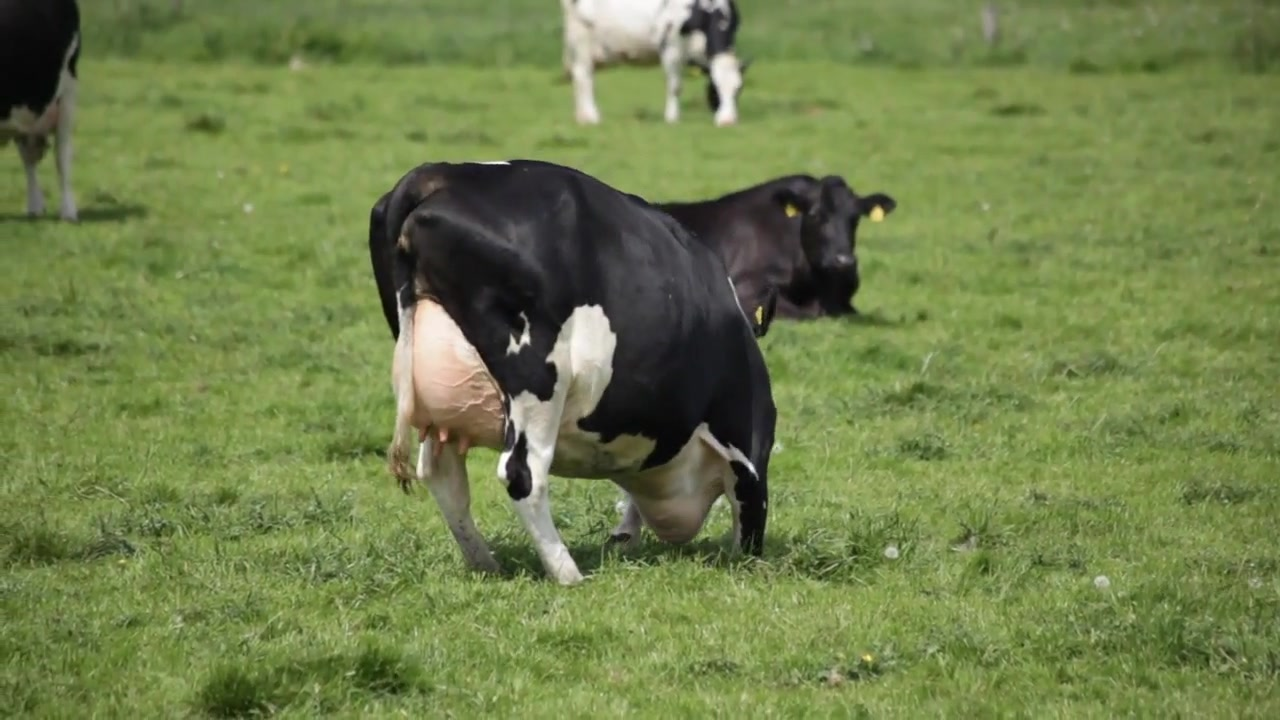cow: (367, 159, 780, 593)
